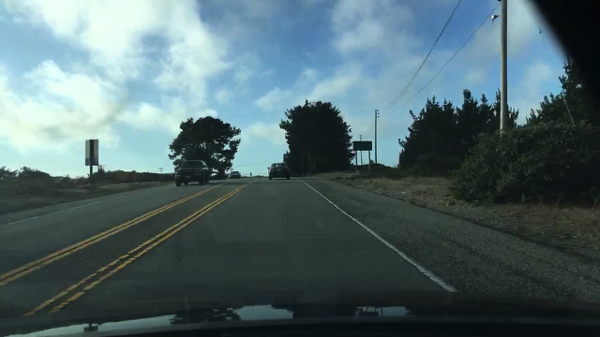car: (175, 159, 209, 185), (267, 162, 290, 180), (228, 170, 241, 179)
traffic sign: (85, 139, 98, 166), (352, 141, 373, 151)
